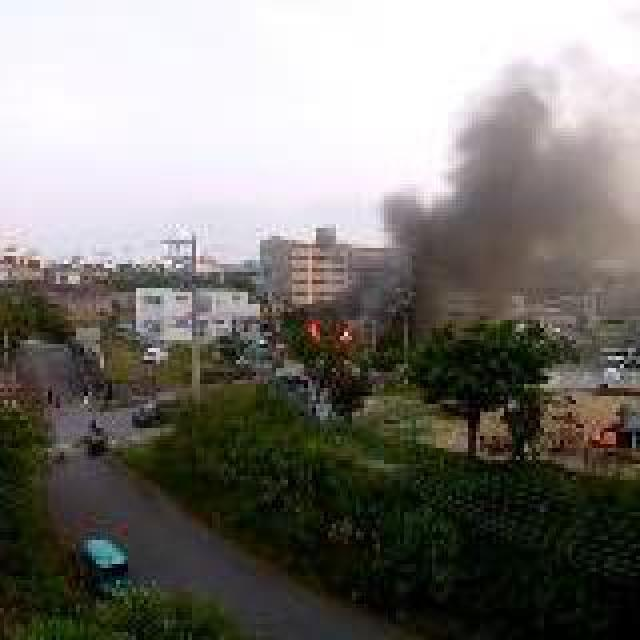smoke: (376, 8, 640, 296)
